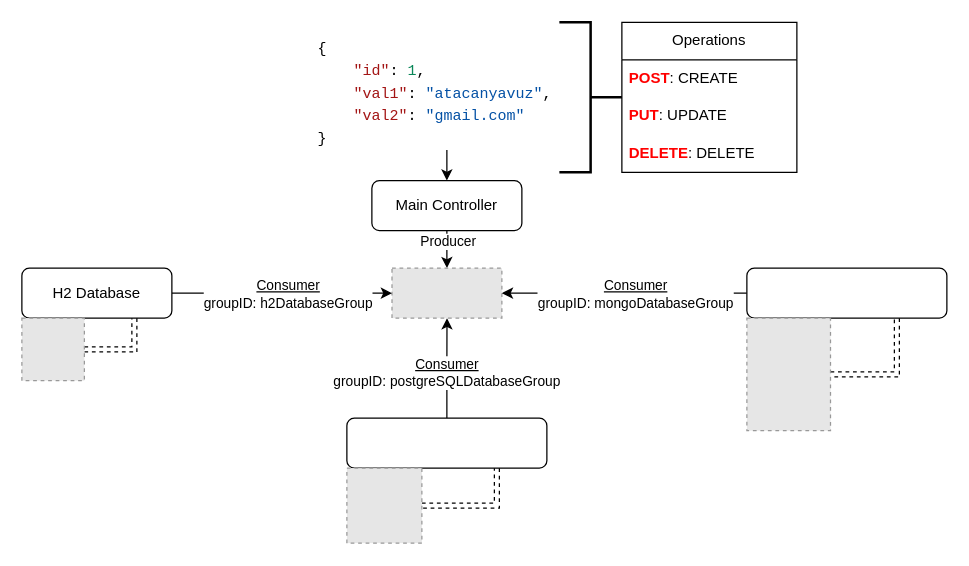
Some shapes in this 969 by 566 pixel diagram are drawn without their labels. Grey dashed boxes stand in for pictures. The centre of each missing label's shape, as x and y in pixels:
"Mongodb" goes at pixel 846 292.
"PostgreSQL Database" goes at pixel 446 442.
